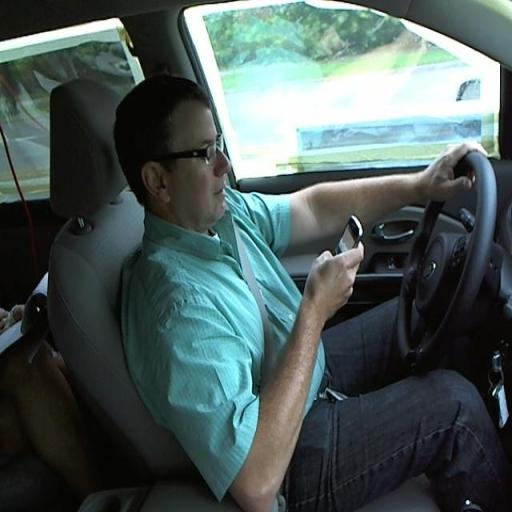texting_phone: (120, 96, 489, 459)
